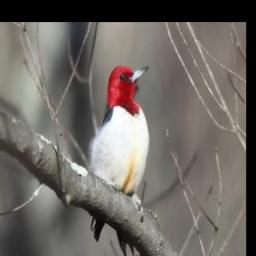Woodpecker: (86, 64, 153, 256)
